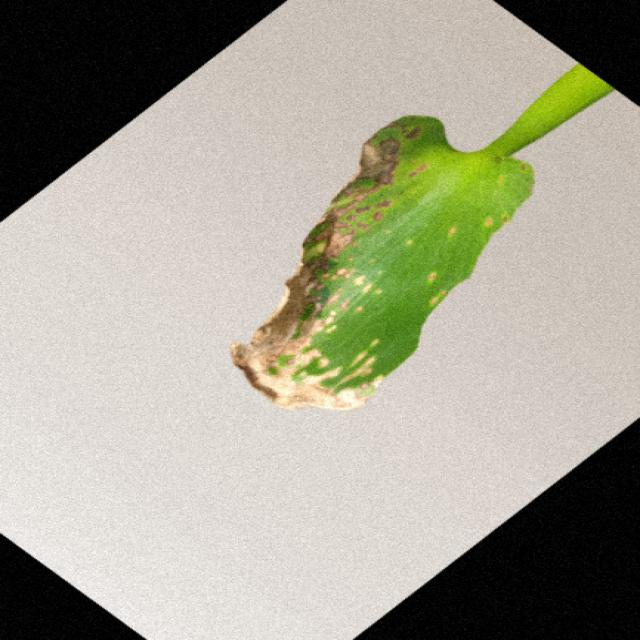daun berpenyakit bercak: (232, 65, 611, 409)
